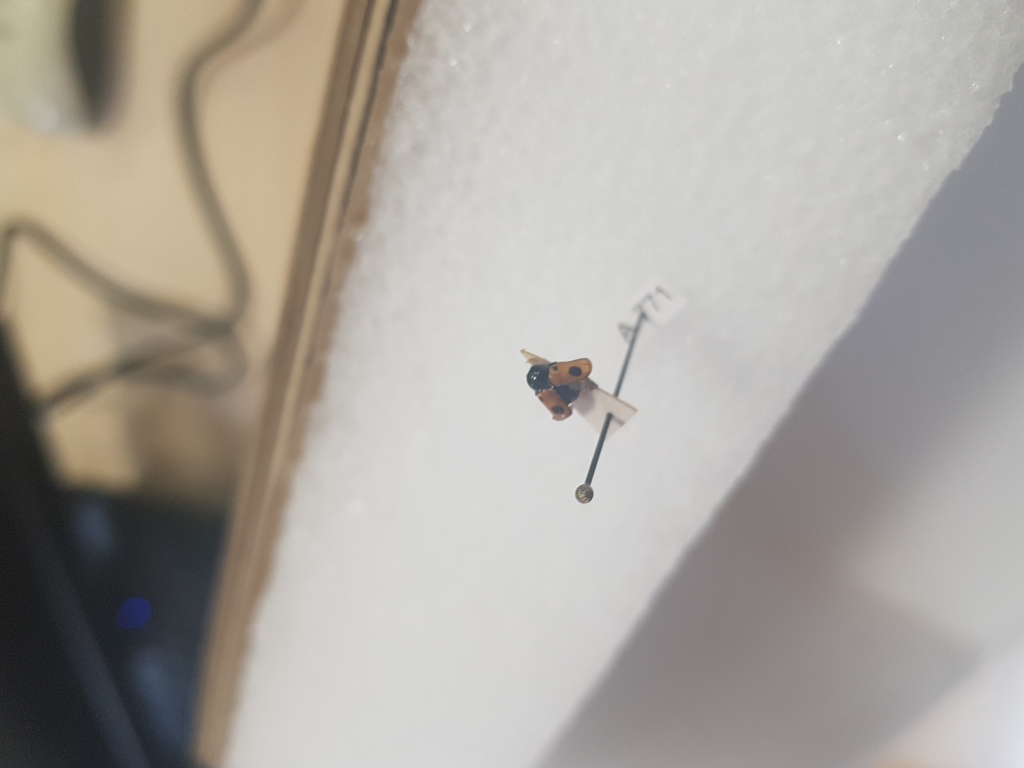Cryptocephalus_bipunctatus: (518, 352, 593, 425)
